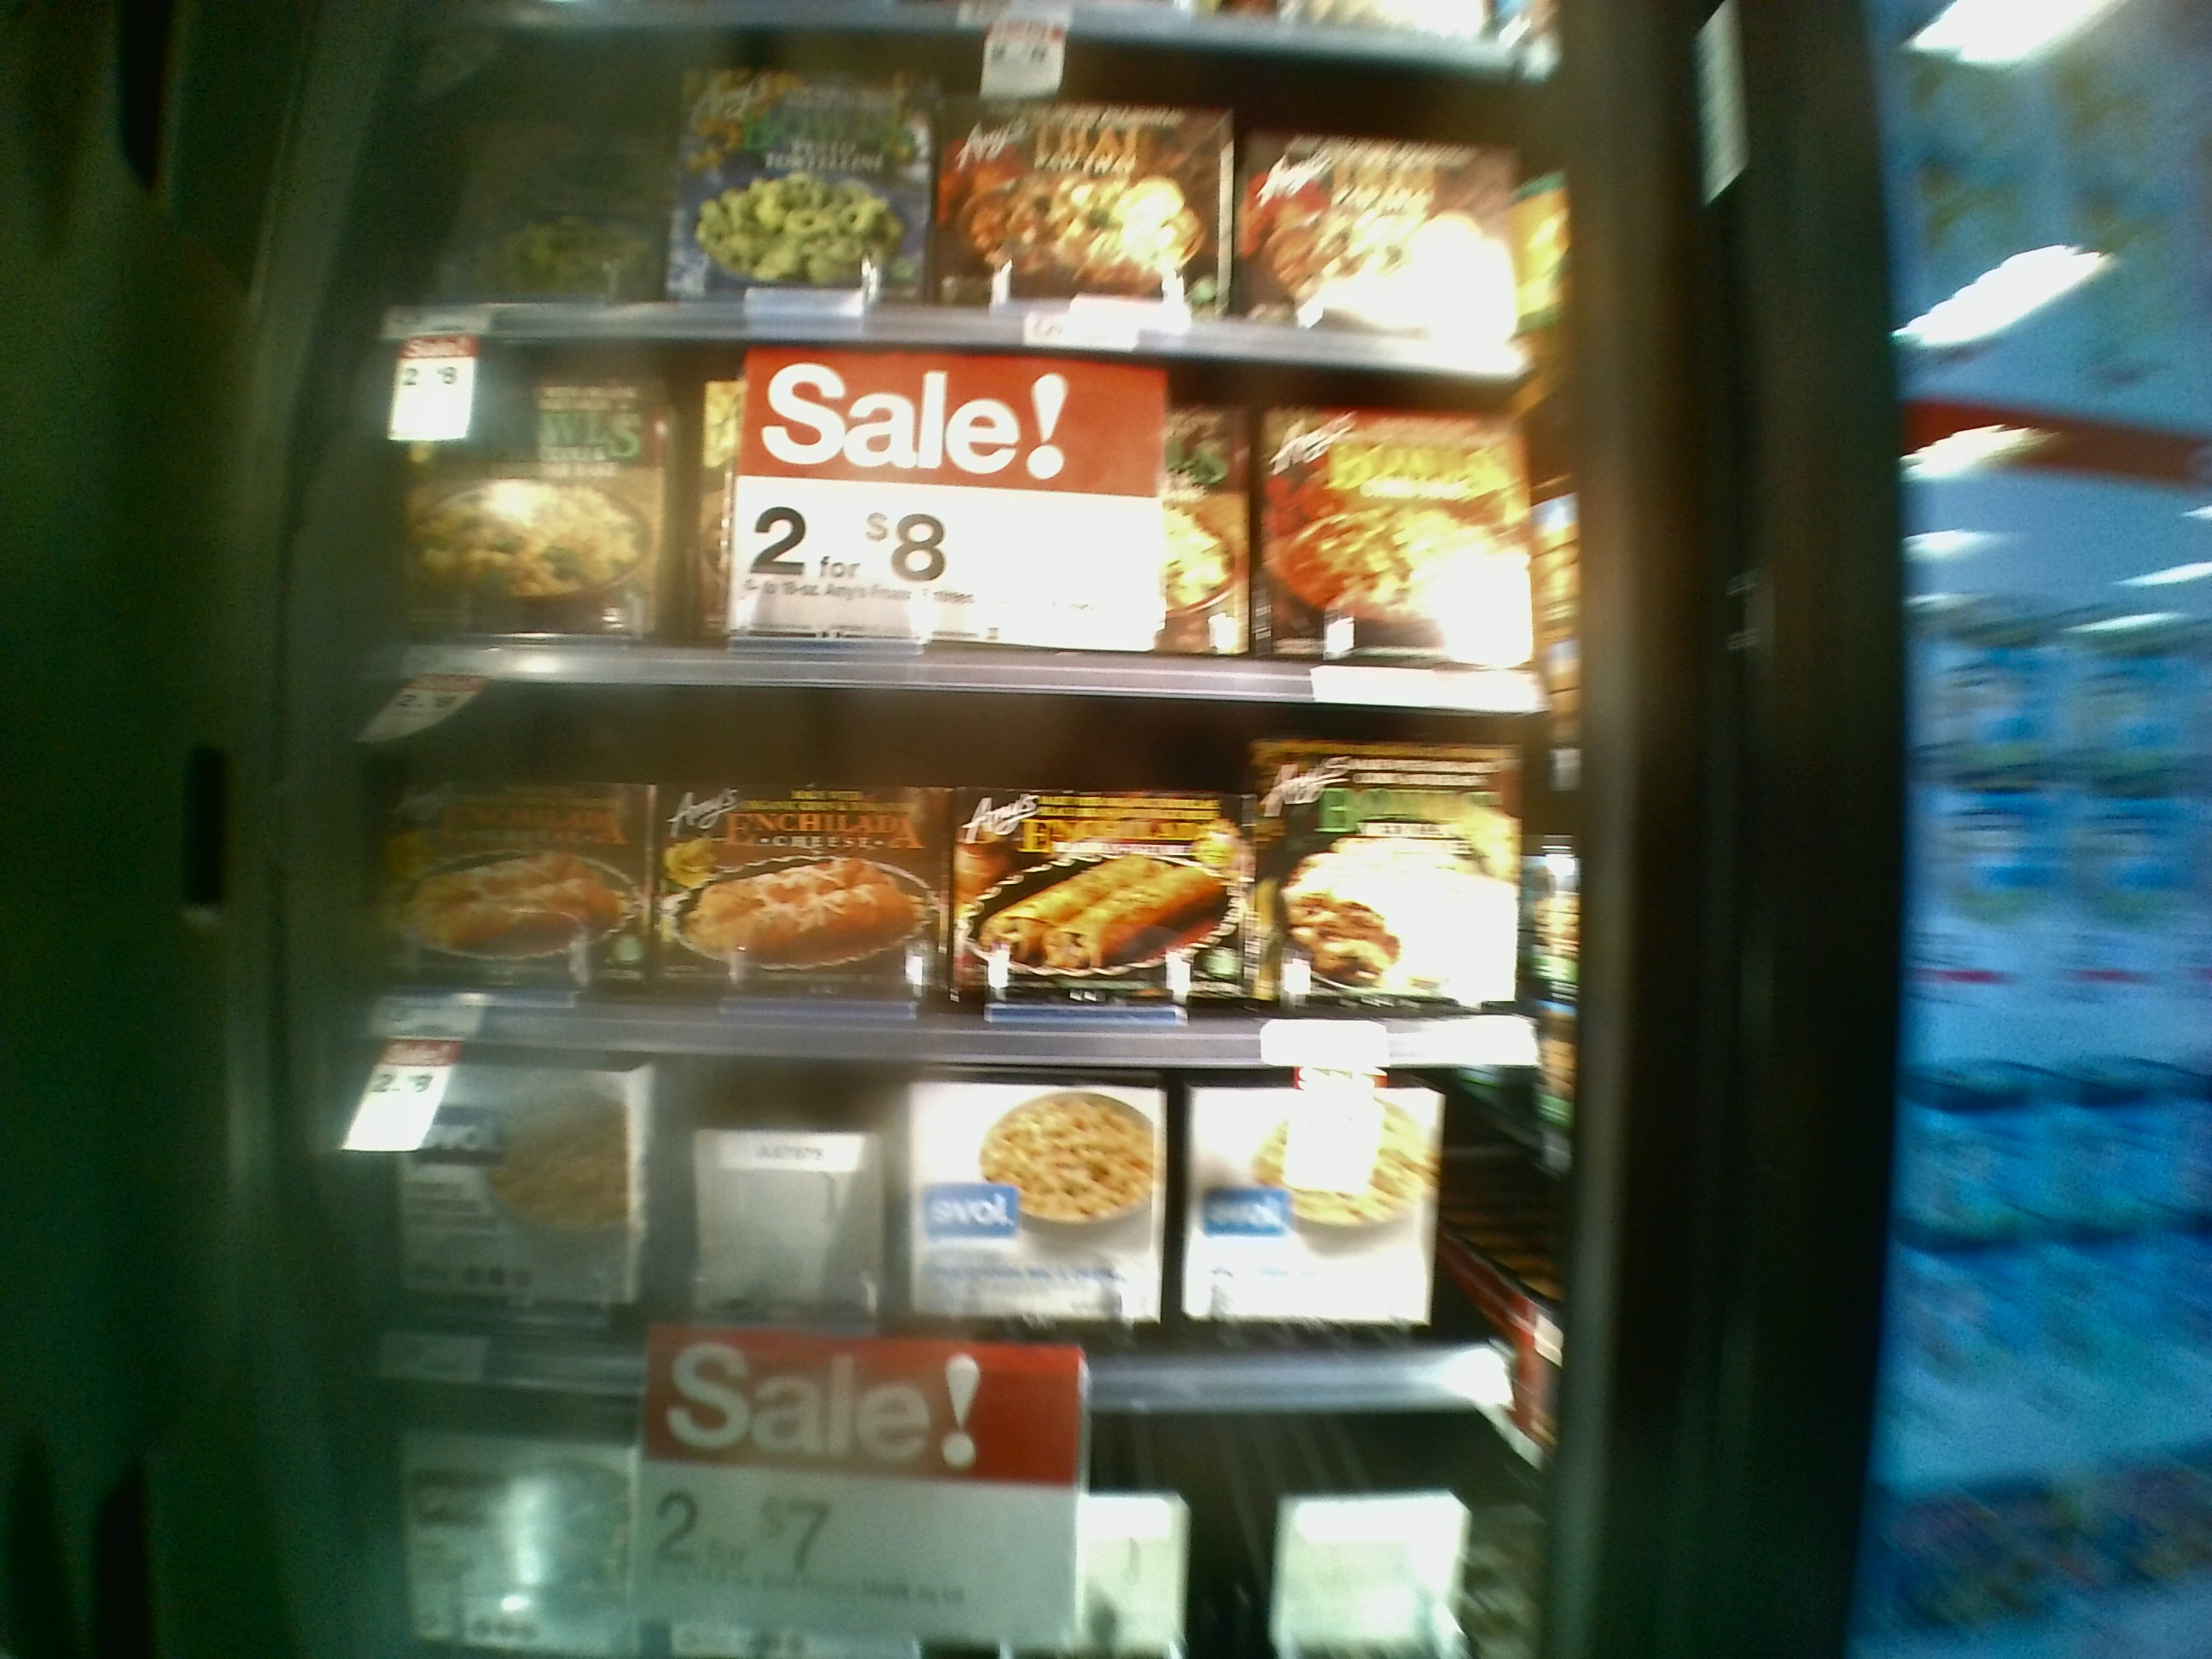shelf: (354, 701, 1562, 1073), (371, 335, 1550, 708), (357, 1068, 1541, 1417), (394, 21, 1552, 359)
